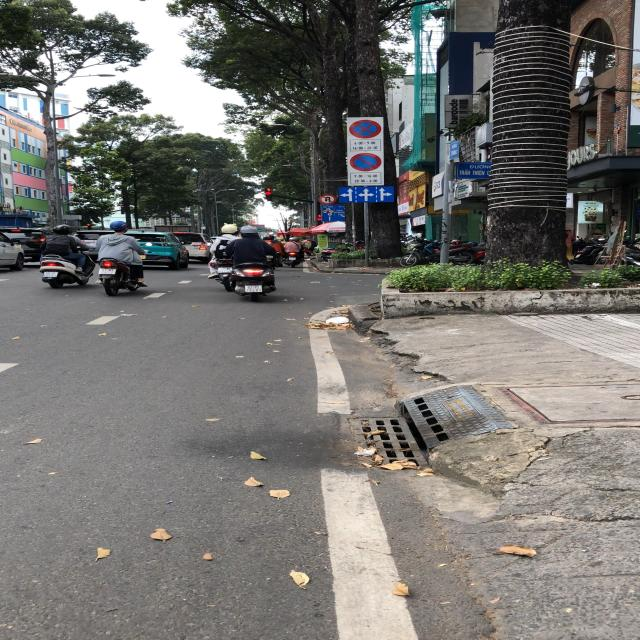Bien bao cam do xe: (350, 151, 389, 172)
Bien bao cam dung xe va do xe: (348, 119, 382, 139)
Bien bao cam quay dau xe: (318, 193, 336, 204)
